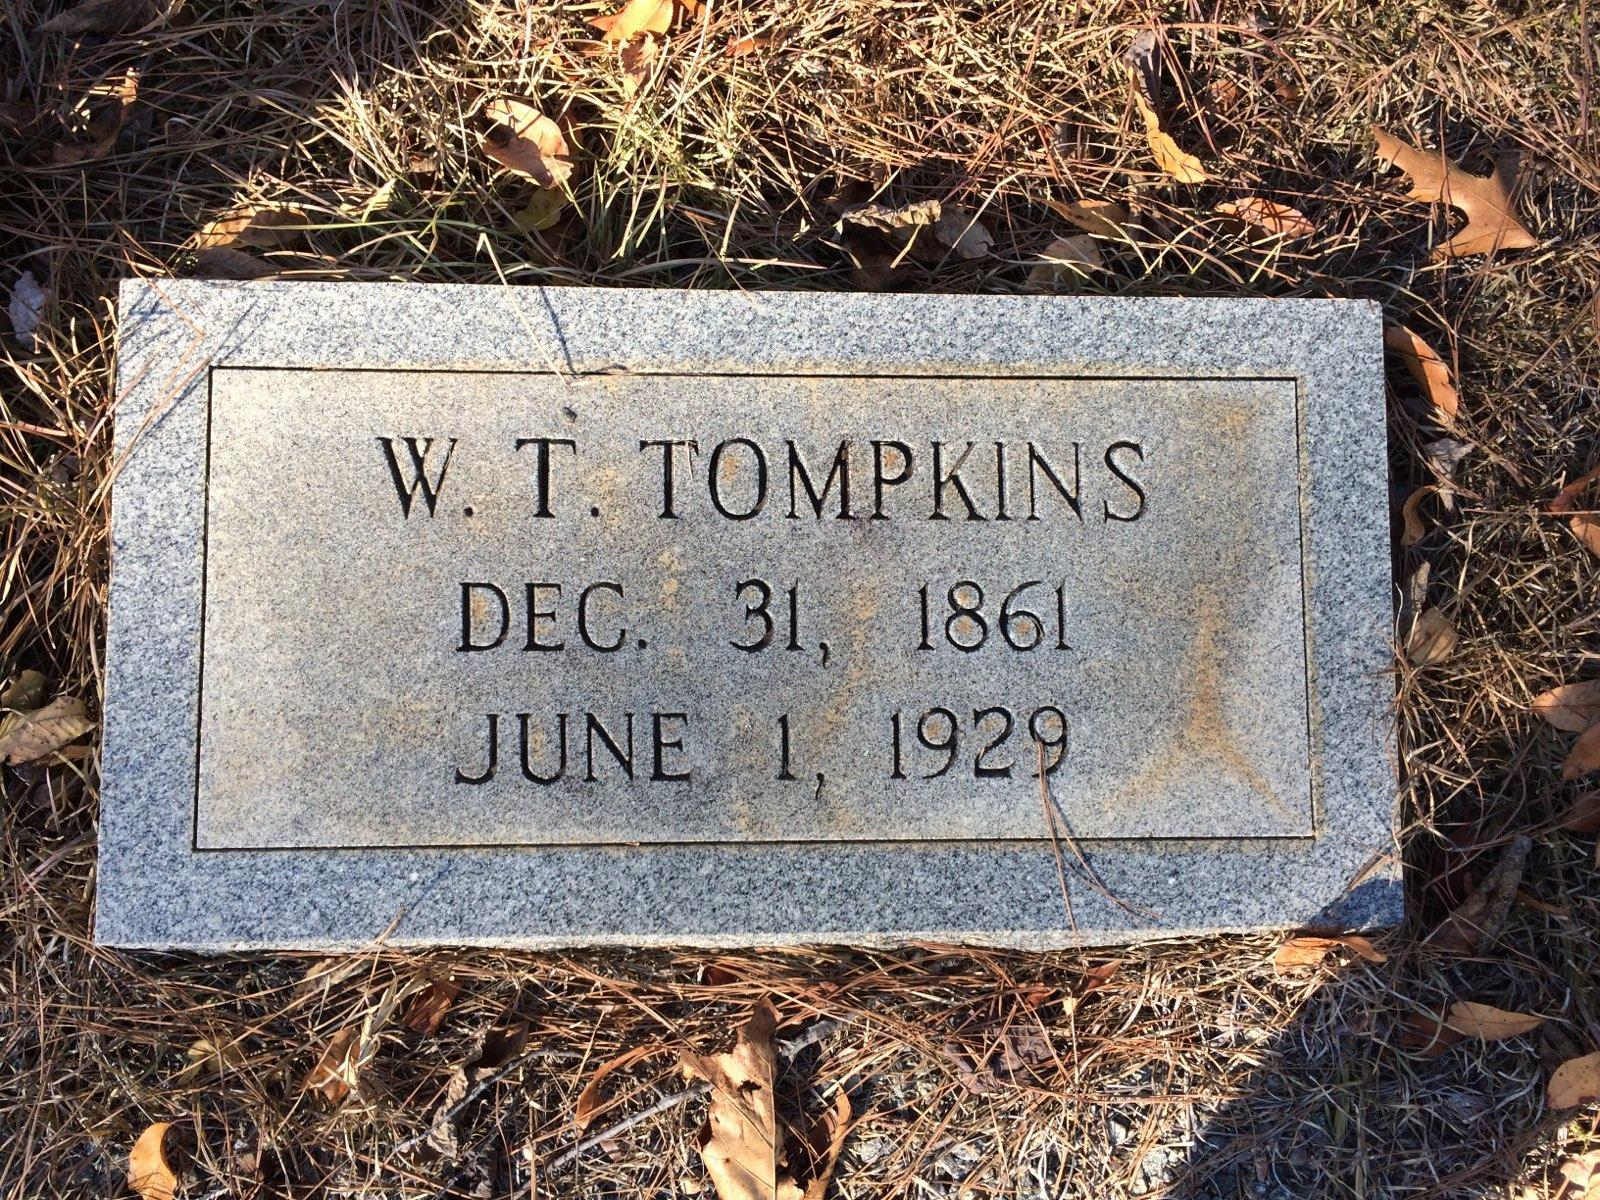flat: (112, 265, 1406, 930)
